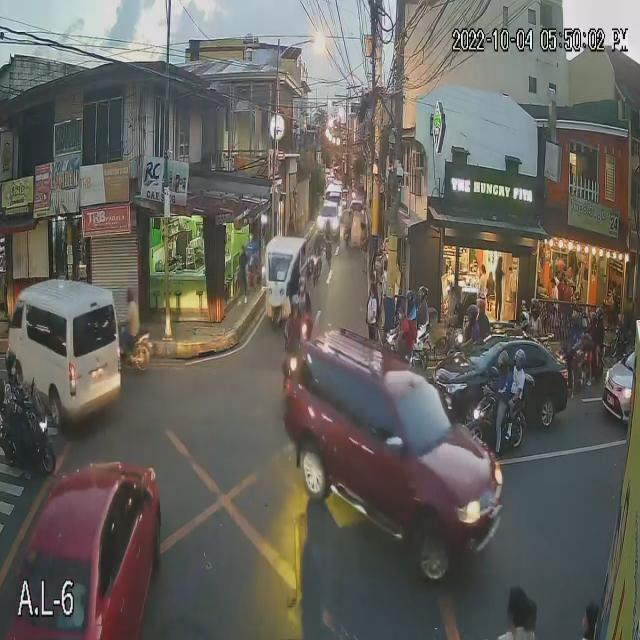helmet: (3, 345, 23, 388), (510, 304, 536, 335), (530, 291, 551, 321), (496, 353, 514, 383), (416, 283, 437, 308), (512, 344, 530, 369), (400, 285, 417, 310), (466, 299, 479, 326), (583, 309, 600, 329), (595, 302, 612, 321), (474, 297, 488, 319)
motorcycle: (0, 392, 52, 479), (463, 397, 528, 460), (387, 324, 436, 359), (575, 344, 608, 387)
rider: (0, 348, 28, 435), (484, 347, 514, 414), (506, 341, 536, 406), (458, 297, 484, 345), (593, 300, 616, 349), (397, 277, 419, 326), (584, 308, 603, 364), (526, 290, 546, 339), (417, 279, 437, 328), (477, 289, 496, 340), (517, 306, 528, 343)
